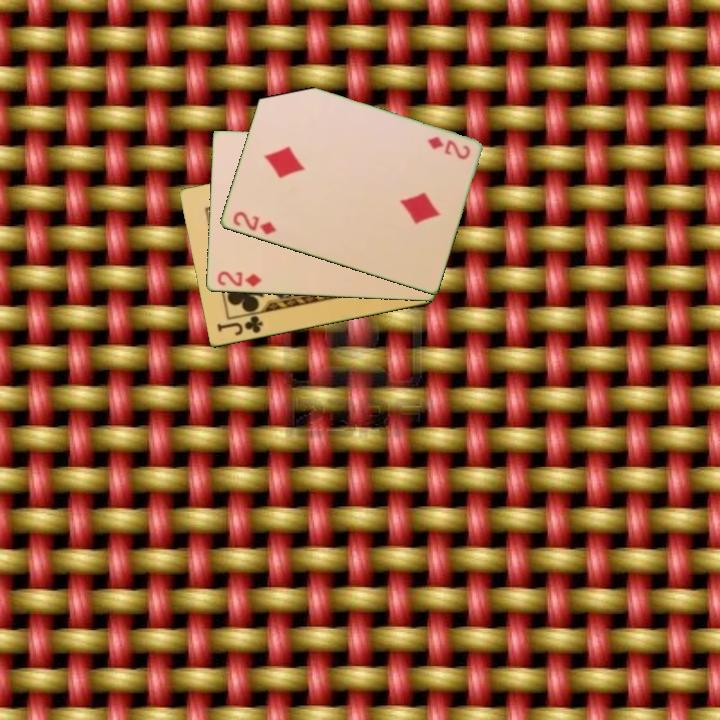2d: (229, 208, 279, 238), (423, 133, 473, 163), (213, 268, 264, 290)
Jc: (213, 312, 266, 339)
